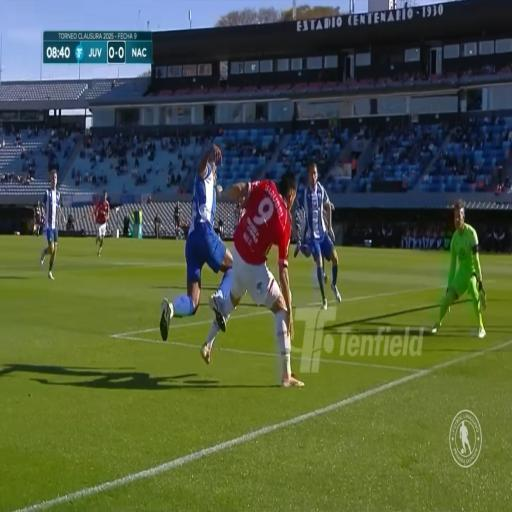Goalkeeper: (446, 200, 484, 325)
Player: (220, 174, 296, 370), (179, 139, 221, 336), (301, 160, 342, 298), (44, 168, 59, 271), (96, 187, 109, 258)
